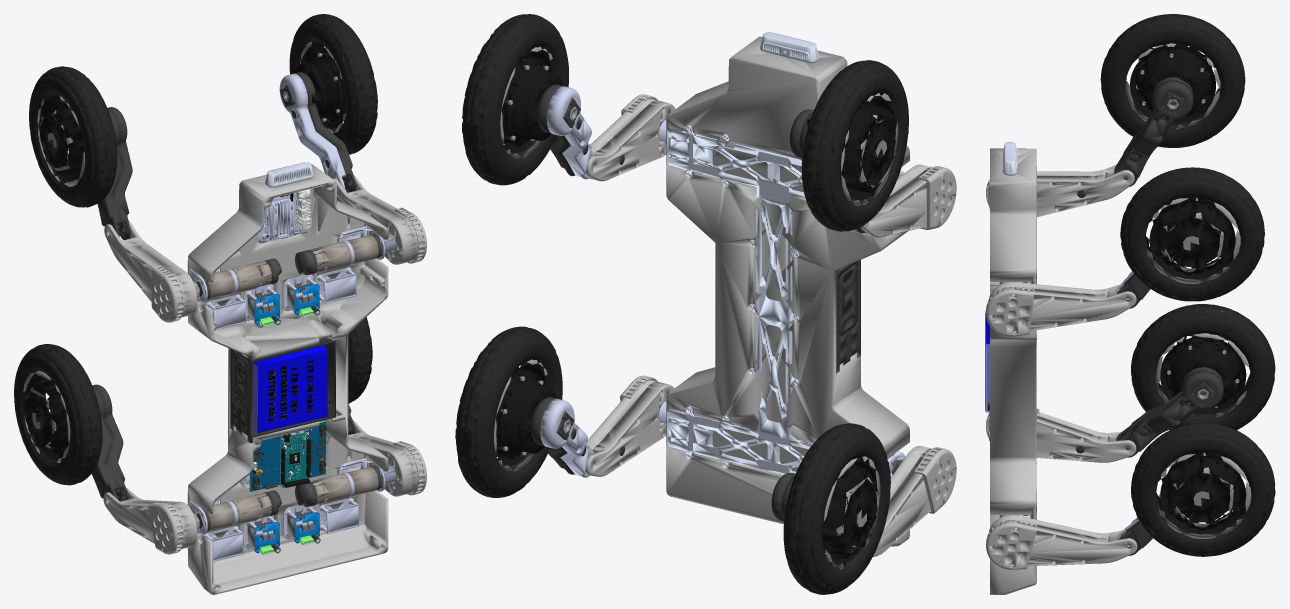
Rendered from safl-quadruped.glb.
3 views of the same model, side by side, from view 1: azimuth 30°, elevation 25°; view 2: azimuth 150°, elevation 25°; view 3: azimuth 270°, elevation 25° (orthographic). The views are drawn at different scales.
Visible parts, largest first — view 1: NOT SO FINAL BODY-1, Tire.step-1 (×4), MEGA TORQUE DC PLANETARY GEARED SERVO MOTOR-1 (×4), Center.step-1 (×3), 12000MAH BATTERY-1, BATTERY TRAY.-1, UPPER 2-1 (×2), MirrorUPPER 1-1 (×2), MOTOR CONTROLLER-1 (×4), SHELL-1 (×2), PART A-1 (×2), CUSTOM PCB-1 (+11 smaller); view 2: NOT SO FINAL BODY-1, Tire.step-1 (×4), ALUMINUM BASE-1, Center.step-1 (×4), MirrorUPPER 1-1 (×2), UPPER 2-1 (×2), MirrorPART A-1 (×2), DrumBrake_Assembly.step-1/DrumBrake_Cavity.step-1 (×2), SHELL-1 (×2), BATTERY TRAY.-1, DrumBrake_Assembly.step-1/DrumBrake_Cover.step-1 (×2), MirrorPART B-1 (×2) (+3 smaller); view 3: Tire.step-1 (×4), Center.step-1 (×4), NOT SO FINAL BODY-1, MirrorUPPER 2-1 (×2), UPPER 1-1 (×2), PART A-1 (×2), DrumBrake_Assembly.step-1/DrumBrake_Cavity.step-1 (×4), SHELL MIRRORED-1 (×2), DrumBrake_Assembly.step-1/DrumBrake_Cover.step-1 (×2), MirrorUPPER 1-1 (×2), MirrorPART B-1 (×2), UPPER 2-1 (×2) (+3 smaller).
Boxes of the visible parts, left/top/right/bottom form: NOT SO FINAL BODY-1: left=187, top=164, right=388, bottom=594; Tire.step-1 (×4): left=14, top=14, right=377, bottom=485; MEGA TORQUE DC PLANETARY GEARED SERVO MOTOR-1 (×4): left=196, top=234, right=382, bottom=531; Center.step-1 (×3): left=23, top=41, right=346, bottom=463; 12000MAH BATTERY-1: left=253, top=345, right=330, bottom=432; BATTERY TRAY.-1: left=230, top=338, right=335, bottom=443; UPPER 2-1 (×2): left=103, top=224, right=186, bottom=548; MirrorUPPER 1-1 (×2): left=333, top=178, right=413, bottom=496; MOTOR CONTROLLER-1 (×4): left=211, top=273, right=358, bottom=561; SHELL-1 (×2): left=148, top=265, right=183, bottom=554; PART A-1 (×2): left=92, top=107, right=132, bottom=501; CUSTOM PCB-1: left=249, top=421, right=326, bottom=491; NOT SO FINAL BODY-1: left=666, top=36, right=909, bottom=546; Tire.step-1 (×4): left=455, top=14, right=908, bottom=594; ALUMINUM BASE-1: left=667, top=125, right=812, bottom=474; Center.step-1 (×4): left=471, top=46, right=898, bottom=569; MirrorUPPER 1-1 (×2): left=585, top=100, right=675, bottom=476; UPPER 2-1 (×2): left=861, top=167, right=934, bottom=556; MirrorPART A-1 (×2): left=540, top=86, right=594, bottom=477; DrumBrake_Assembly.step-1/DrumBrake_Cavity.step-1 (×2): left=498, top=58, right=549, bottom=459; SHELL-1 (×2): left=914, top=166, right=956, bottom=513; BATTERY TRAY.-1: left=836, top=260, right=860, bottom=373; DrumBrake_Assembly.step-1/DrumBrake_Cover.step-1 (×2): left=518, top=72, right=563, bottom=453; MirrorPART B-1 (×2): left=530, top=84, right=575, bottom=474; Tire.step-1 (×4): left=1100, top=14, right=1275, bottom=556; Center.step-1 (×4): left=1125, top=43, right=1251, bottom=538; NOT SO FINAL BODY-1: left=990, top=148, right=1036, bottom=594; MirrorUPPER 2-1 (×2): left=989, top=288, right=1137, bottom=566; UPPER 1-1 (×2): left=988, top=170, right=1136, bottom=462; PART A-1 (×2): left=1114, top=80, right=1223, bottom=457; DrumBrake_Assembly.step-1/DrumBrake_Cavity.step-1 (×4): left=1135, top=51, right=1240, bottom=512; SHELL MIRRORED-1 (×2): left=986, top=287, right=1037, bottom=569; DrumBrake_Assembly.step-1/DrumBrake_Cover.step-1 (×2): left=1144, top=66, right=1231, bottom=407; MirrorUPPER 1-1 (×2): left=989, top=282, right=1121, bottom=541; MirrorPART B-1 (×2): left=1117, top=250, right=1175, bottom=555; UPPER 2-1 (×2): left=988, top=164, right=1121, bottom=441.
Bounding box in the file's own units: 0.6214 × 0.8895 × 0.4964.
